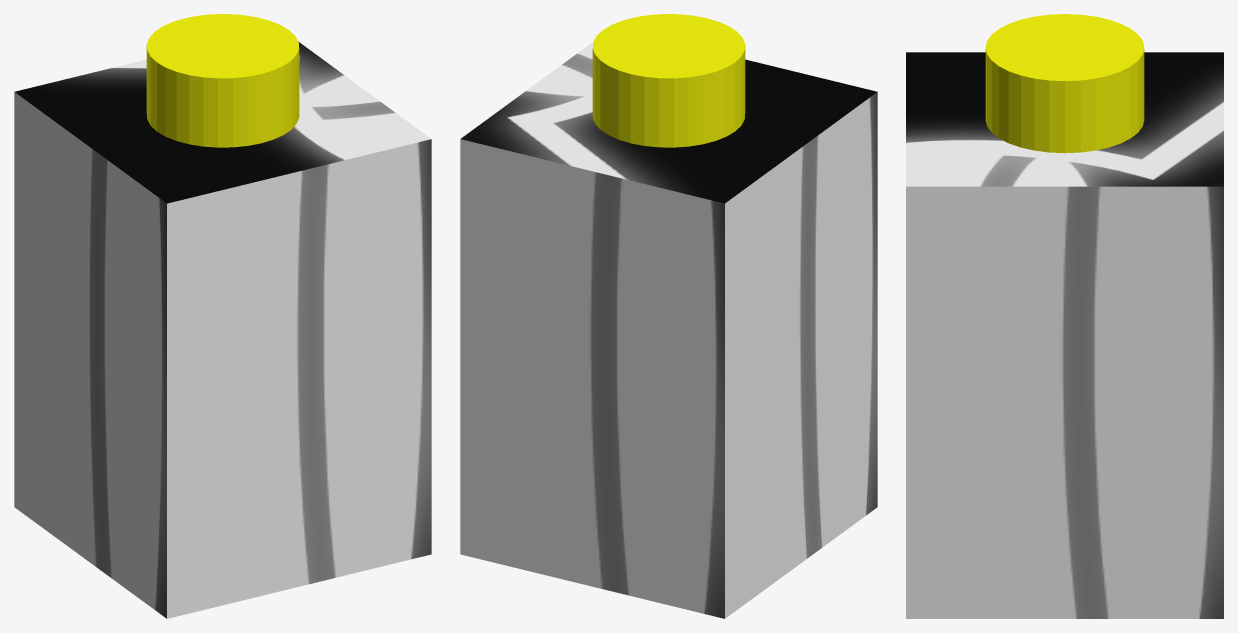
File: potion.fbx
3 renders of one model, left to right at view 1: azimuth 30°, elevation 25°; view 2: azimuth 150°, elevation 25°; view 3: azimuth 270°, elevation 25°, orthographic. The views are drawn at different scales.
Visible parts, largest first — view 1: Cube; view 2: Cube; view 3: Cube.
Boxes of the visible parts, x1,y1,x2,y2 form: Cube: [14, 14, 431, 618]; Cube: [460, 14, 877, 618]; Cube: [906, 14, 1223, 618].
Size of the model in its own units: 200 by 350 by 200.
